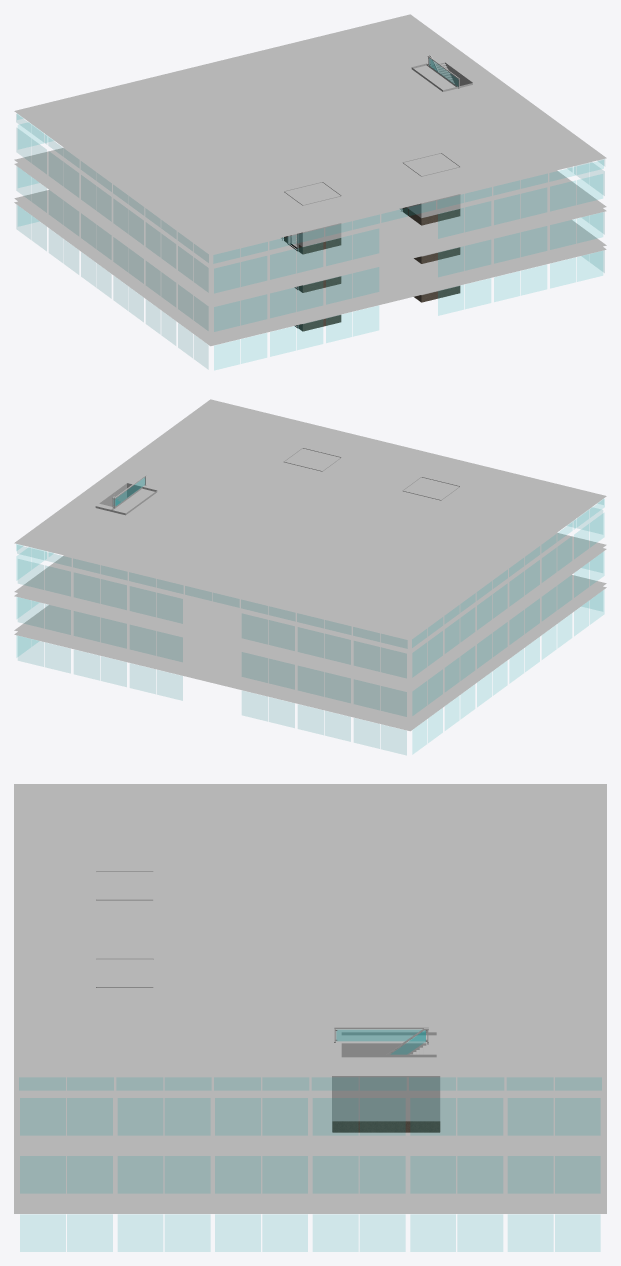
File: Building05_Interior04.fbx
The picture shows the model from 3 angles, top to bottom: view 1: azimuth 30°, elevation 25°; view 2: azimuth 150°, elevation 25°; view 3: azimuth 270°, elevation 25°; orthographic projection. The views are drawn at different scales.
Visible parts, largest first — view 1: Building05_Interior04; view 2: Building05_Interior04; view 3: Building05_Interior04.
Part boxes in pixels (box(x1,y1,x2,y2)): Building05_Interior04: box(14, 14, 606, 369); Building05_Interior04: box(14, 399, 606, 754); Building05_Interior04: box(14, 784, 606, 1251).
Size of the model in its own units: 4364 by 1450 by 3747.
